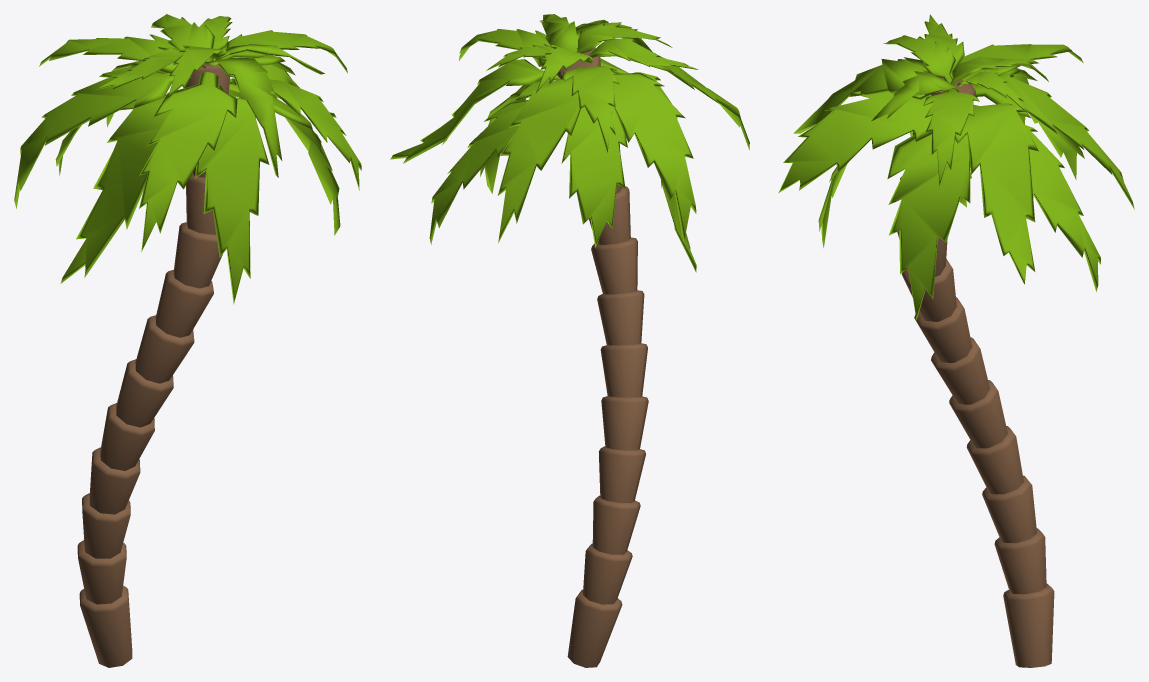
File: PalmTrees.fbx
3 renders of one model, left to right at view 1: azimuth 30°, elevation 25°; view 2: azimuth 150°, elevation 25°; view 3: azimuth 270°, elevation 25°, orthographic. The views are drawn at different scales.
Parts seen in each view (by area): view 1: PalmLeaves_2, PalmTrunk_2; view 2: PalmLeaves_2, PalmTrunk_2; view 3: PalmLeaves_2, PalmTrunk_2.
Part boxes in pixels (left/top/right/bottom): PalmLeaves_2: left=14, top=14, right=361, bottom=304; PalmTrunk_2: left=77, top=59, right=229, bottom=667; PalmLeaves_2: left=390, top=14, right=749, bottom=272; PalmTrunk_2: left=557, top=50, right=648, bottom=667; PalmLeaves_2: left=778, top=14, right=1134, bottom=320; PalmTrunk_2: left=897, top=78, right=1054, bottom=667.
Bounding box in the file's own units: 0.6537 × 1.23 × 0.6275.
